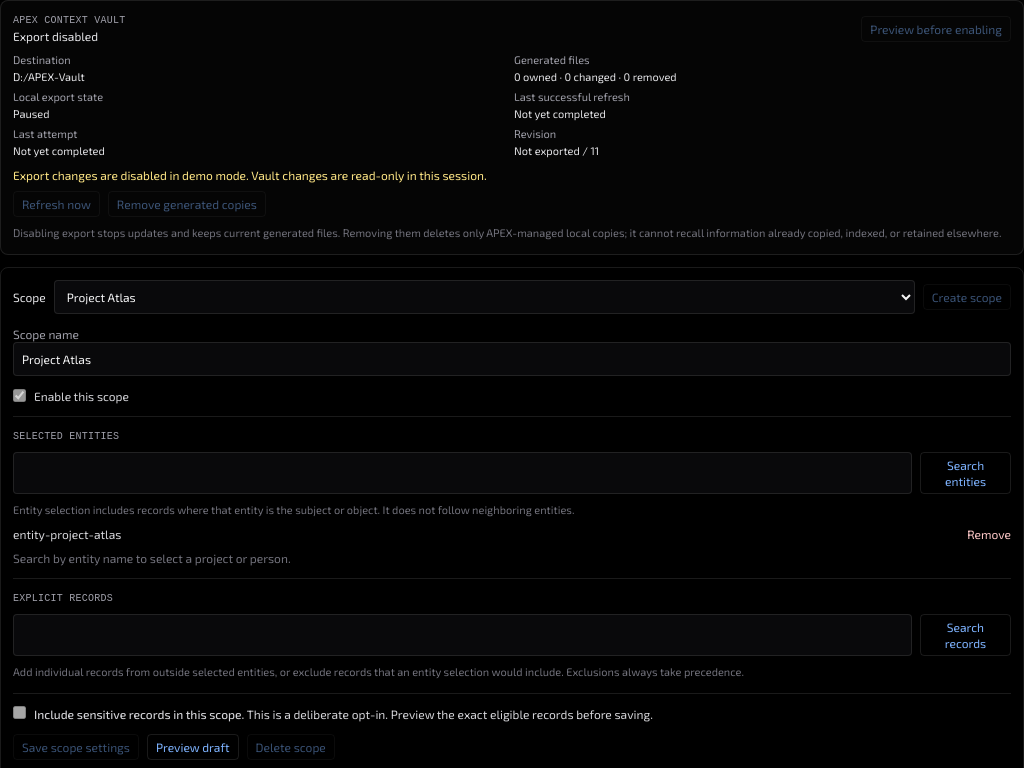
Test case: ContextVaultPanel › allows read-only preview in demo mode while keeping all export writes disabled
The image size is (1024, 768).
Expected: the text "Export disabled" is shown, top-left (13, 29), bottom-right (98, 43)
Expected: the button "Preview before enabling" is disabled, top-left (861, 16), bottom-right (1011, 42)
Click the button "Preview draft": (193, 746) top-left (147, 734), bottom-right (239, 760)
(page scrolled)
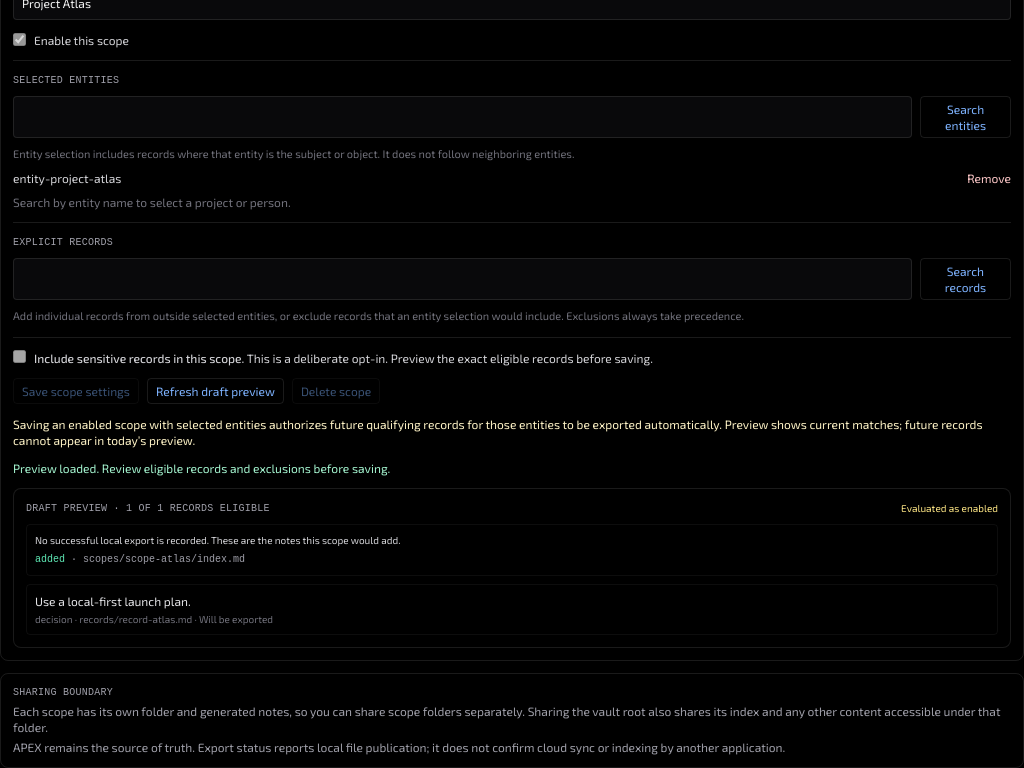
Result: the text "Draft preview · 1 of 1 records eligible" is shown at top-left (26, 500), bottom-right (270, 516)
